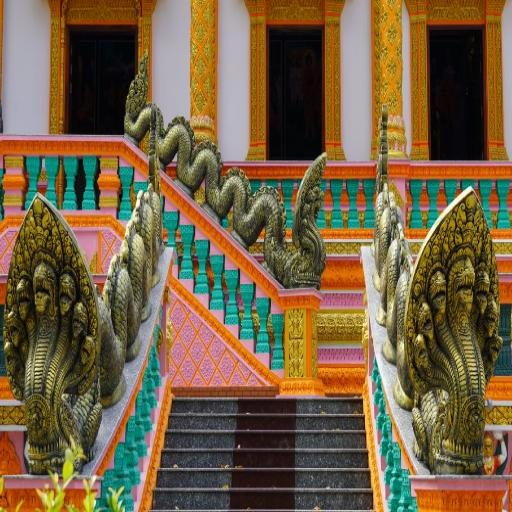hoa: (219, 351, 234, 379), (210, 333, 223, 364), (182, 355, 195, 385), (191, 334, 203, 364), (171, 303, 184, 329), (182, 320, 194, 347), (201, 356, 214, 380), (380, 4, 392, 28), (172, 339, 183, 365), (195, 19, 206, 44), (229, 368, 243, 387), (200, 323, 212, 345), (388, 90, 399, 113), (387, 58, 399, 78), (394, 4, 404, 27), (386, 24, 398, 43), (380, 42, 390, 64), (380, 75, 390, 97), (394, 40, 404, 62), (189, 311, 201, 329), (196, 56, 205, 78), (189, 72, 197, 96), (240, 360, 250, 379), (190, 37, 198, 60), (196, 91, 205, 111), (204, 39, 212, 61), (192, 373, 204, 387), (202, 4, 211, 22), (191, 5, 198, 28), (396, 74, 404, 93), (249, 372, 257, 388), (174, 372, 182, 388), (168, 359, 174, 380), (203, 78, 212, 92), (212, 373, 222, 385)
la: (326, 102, 334, 139), (420, 104, 428, 138), (51, 36, 59, 66), (251, 106, 258, 140), (489, 104, 496, 136), (50, 91, 58, 118), (413, 104, 419, 140), (334, 105, 340, 141), (50, 16, 60, 37), (259, 26, 266, 56), (259, 80, 267, 106), (50, 65, 58, 90), (419, 50, 426, 78), (251, 57, 258, 83), (144, 21, 150, 51), (488, 74, 494, 103), (420, 23, 426, 52), (496, 47, 502, 75), (488, 46, 494, 74), (334, 24, 340, 52), (326, 75, 332, 103), (326, 50, 332, 77), (334, 78, 340, 105), (421, 78, 427, 104), (252, 82, 258, 108), (413, 75, 418, 106), (496, 74, 502, 99), (259, 108, 264, 137), (260, 56, 266, 80), (412, 50, 417, 78), (251, 28, 256, 56), (488, 24, 494, 47), (497, 101, 501, 135), (326, 24, 331, 51), (334, 52, 339, 78), (495, 24, 500, 48), (412, 22, 416, 50), (50, 118, 56, 135)
ran: (406, 176, 505, 478), (0, 186, 99, 476), (281, 146, 328, 288)
